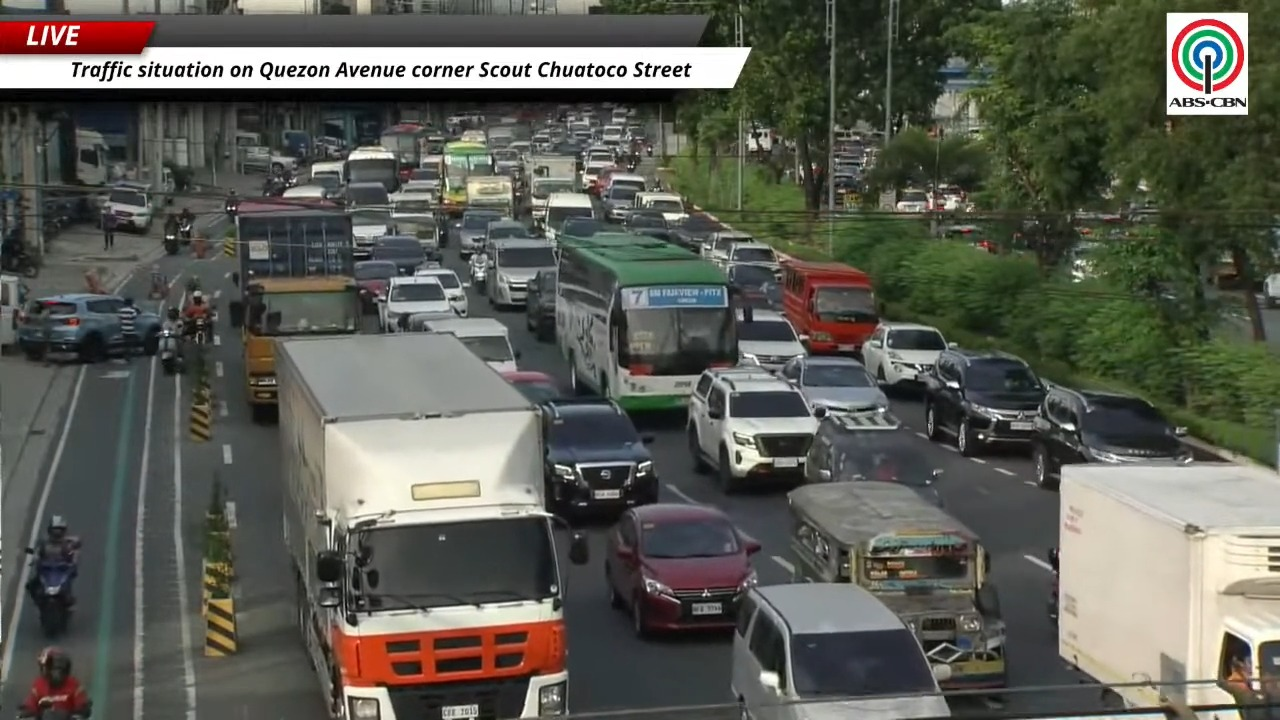bus: (555, 233, 738, 411), (442, 141, 492, 213), (380, 123, 428, 181), (344, 146, 399, 193)
car: (730, 581, 951, 719), (605, 503, 760, 636), (686, 367, 826, 493), (1031, 385, 1191, 488), (541, 398, 658, 516), (923, 348, 1045, 456), (805, 410, 942, 506), (17, 293, 124, 362), (779, 356, 889, 412), (862, 322, 949, 387), (736, 305, 806, 371), (379, 276, 455, 332), (415, 266, 469, 316), (449, 210, 502, 259), (726, 263, 781, 310), (104, 182, 154, 233), (525, 268, 557, 341), (354, 260, 398, 313), (390, 217, 443, 259), (371, 235, 425, 275), (349, 208, 392, 258), (673, 212, 724, 253), (503, 370, 565, 403), (704, 230, 755, 266), (726, 241, 779, 273), (601, 183, 642, 222), (344, 182, 390, 211), (486, 219, 534, 244), (622, 209, 669, 231), (406, 312, 456, 332), (559, 217, 605, 237), (895, 188, 928, 213), (629, 228, 673, 243)
motorcycle: (35, 561, 74, 637), (0, 242, 38, 277), (33, 698, 83, 719), (157, 328, 179, 374), (1047, 548, 1058, 624), (469, 254, 486, 289), (191, 317, 208, 345), (163, 230, 178, 255), (179, 220, 192, 242), (224, 198, 237, 216), (645, 144, 654, 157)
truck: (278, 332, 587, 719), (1050, 463, 1279, 719), (229, 199, 360, 421), (41, 117, 113, 220), (466, 175, 514, 215), (526, 155, 575, 179)
